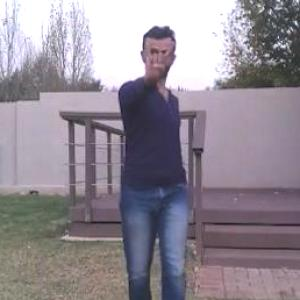takeoff-hand: (132, 24, 176, 78)
